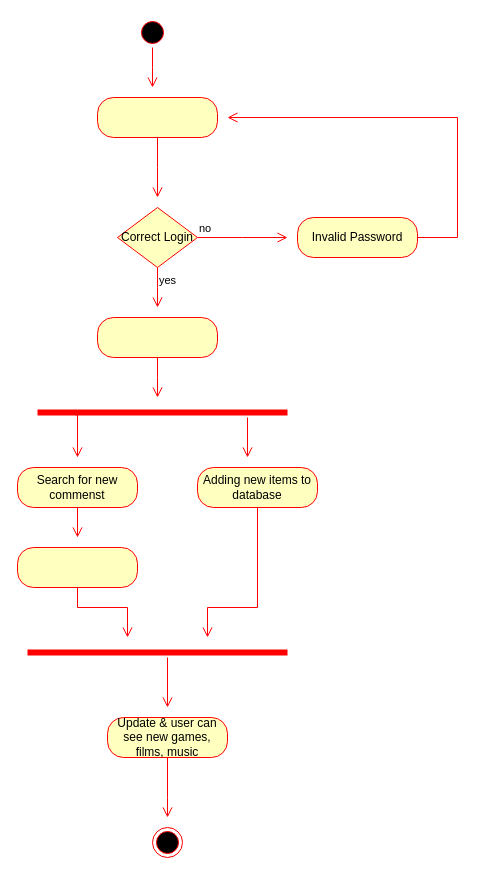
The diagram is 485 pixels wide and 875 high, and some of its shapes have lost their labels. Here are the shapes that lost their labels. From the top down, the box of each, then its label:
(96, 96, 218, 138): Login Name & Password
(96, 316, 218, 358): Database
(16, 546, 138, 588): Answer the commenter's question
